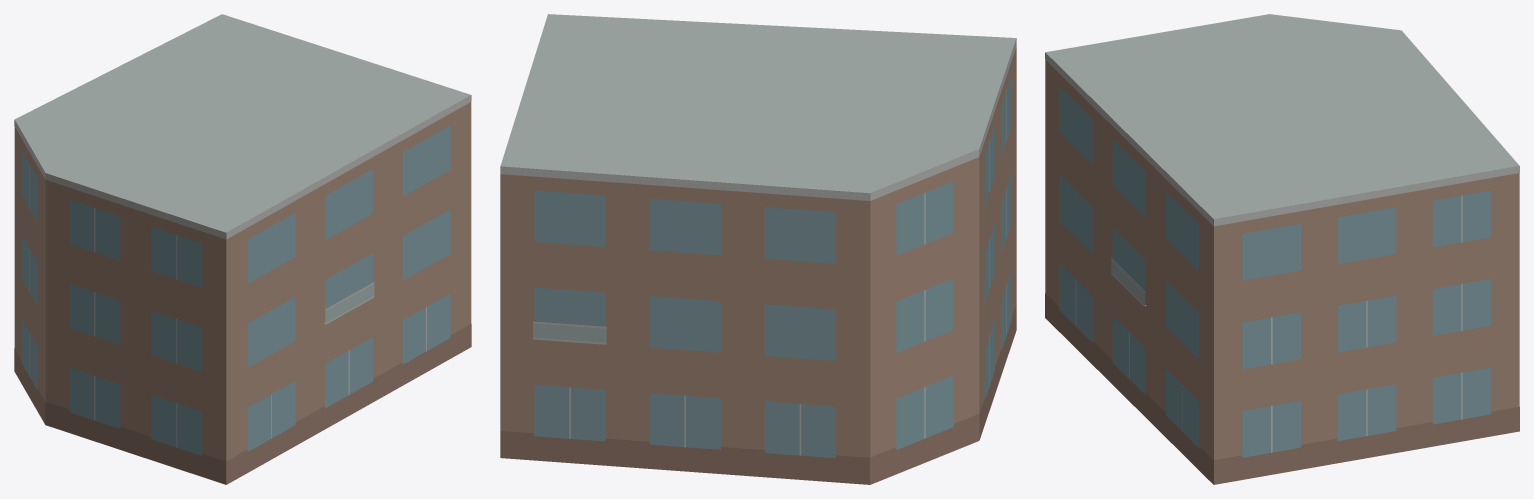
File: survey-upis-32672140.glb
3 renders of one model, left to right at view 1: azimuth 30°, elevation 25°; view 2: azimuth 150°, elevation 25°; view 3: azimuth 270°, elevation 25°, orthographic. The views are drawn at different scales.
Visible parts, largest first — view 1: survey-upis-32672140.tmp; view 2: survey-upis-32672140.tmp; view 3: survey-upis-32672140.tmp.
Boxes of the visible parts, <box> form: survey-upis-32672140.tmp: <box>14,14,471,484</box>; survey-upis-32672140.tmp: <box>500,14,1016,484</box>; survey-upis-32672140.tmp: <box>1045,14,1519,484</box>.
Bounding box in the file's own units: 15.18 × 9.15 × 14.83.
